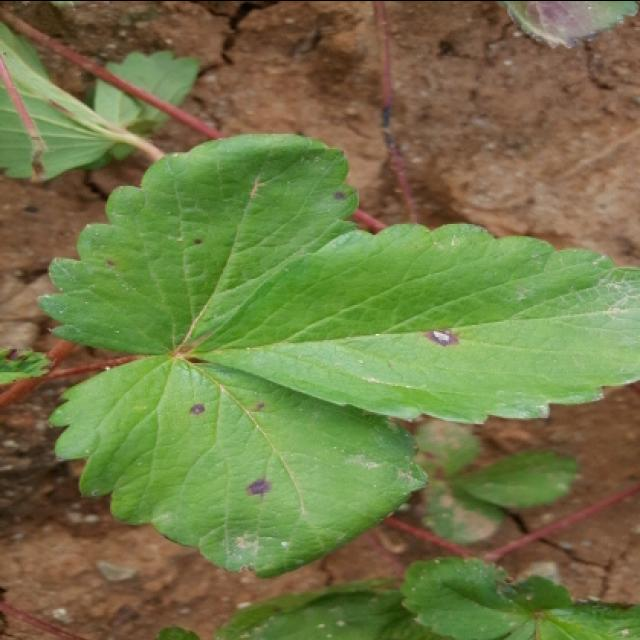Leaf Spot: (188, 222, 638, 425), (48, 354, 427, 577), (35, 131, 362, 354), (413, 417, 480, 479)
